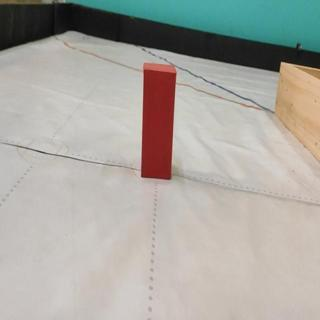redbox: (142, 61, 177, 180)
